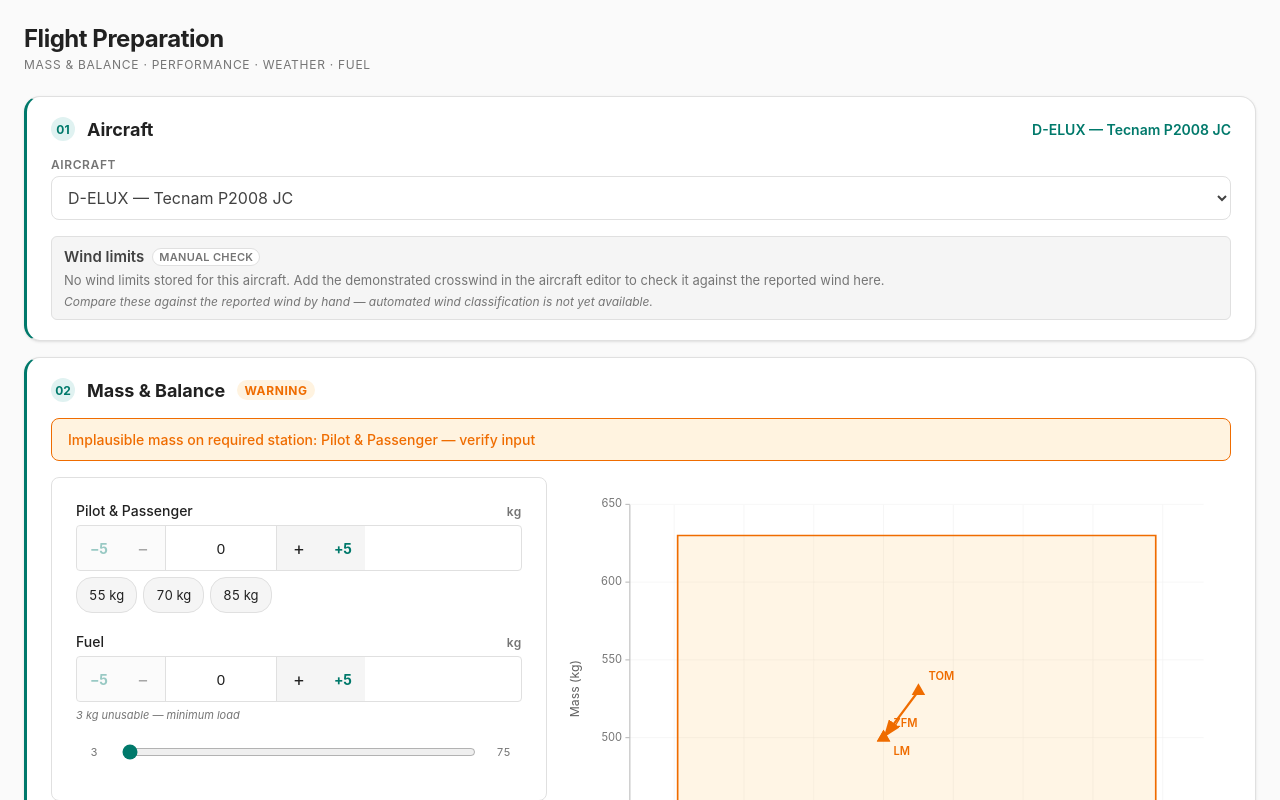
MassBalanceView — Reset Payload confirm + undo › confirming resets the payload and surfaces an undo toast
Replace the text in the field with id "station-0" with "80": [221, 548] box [165,526,277,570]
(page scrolled)
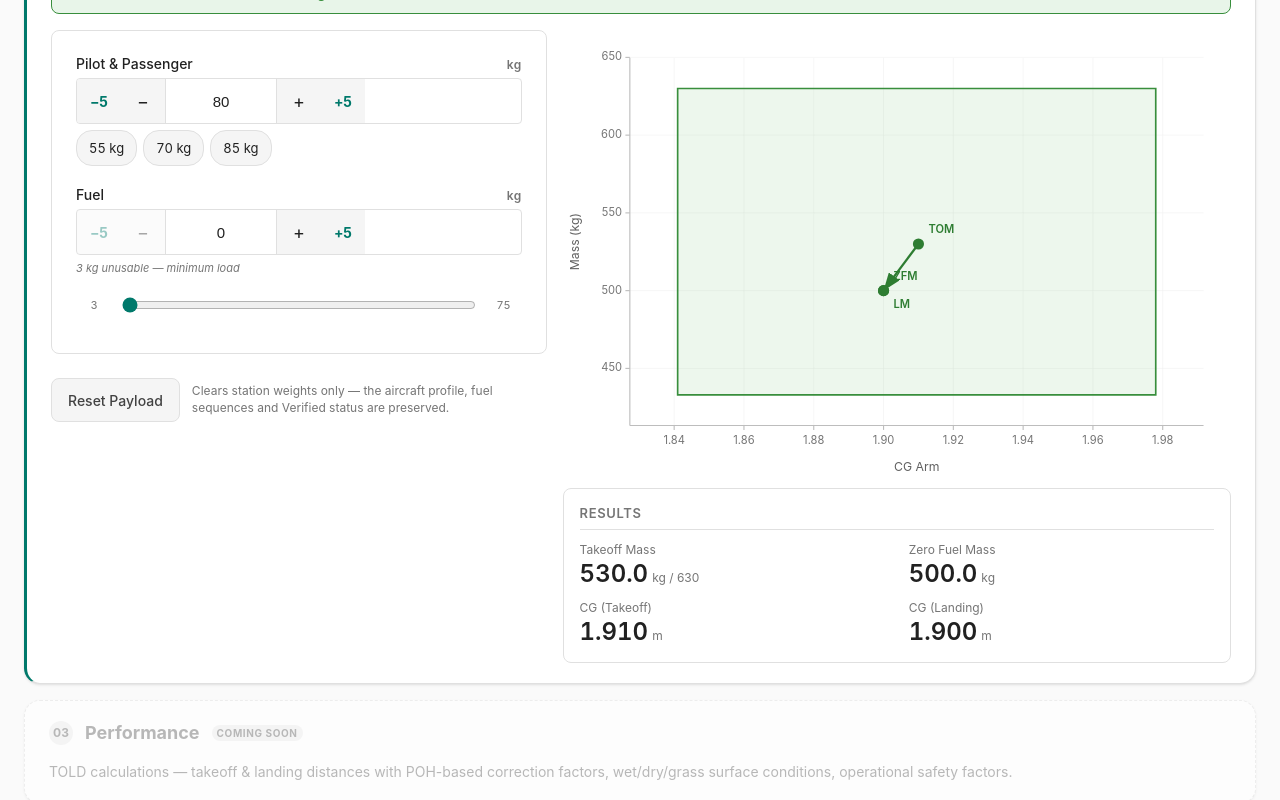
Click the button "Reset Payload": [115, 400] box [51,378,180,422]
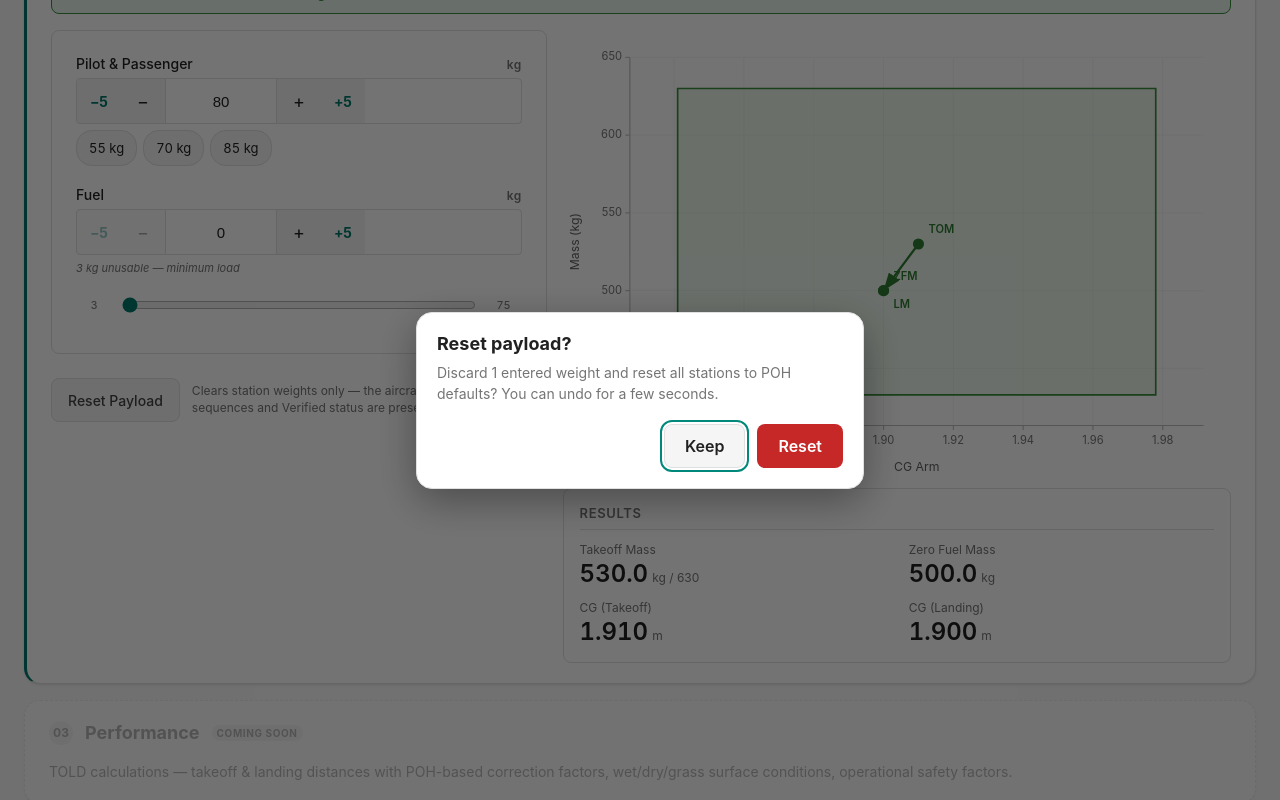
Click the button with class "confirm-dialog__btn--danger": [800, 446] box [757,424,843,468]
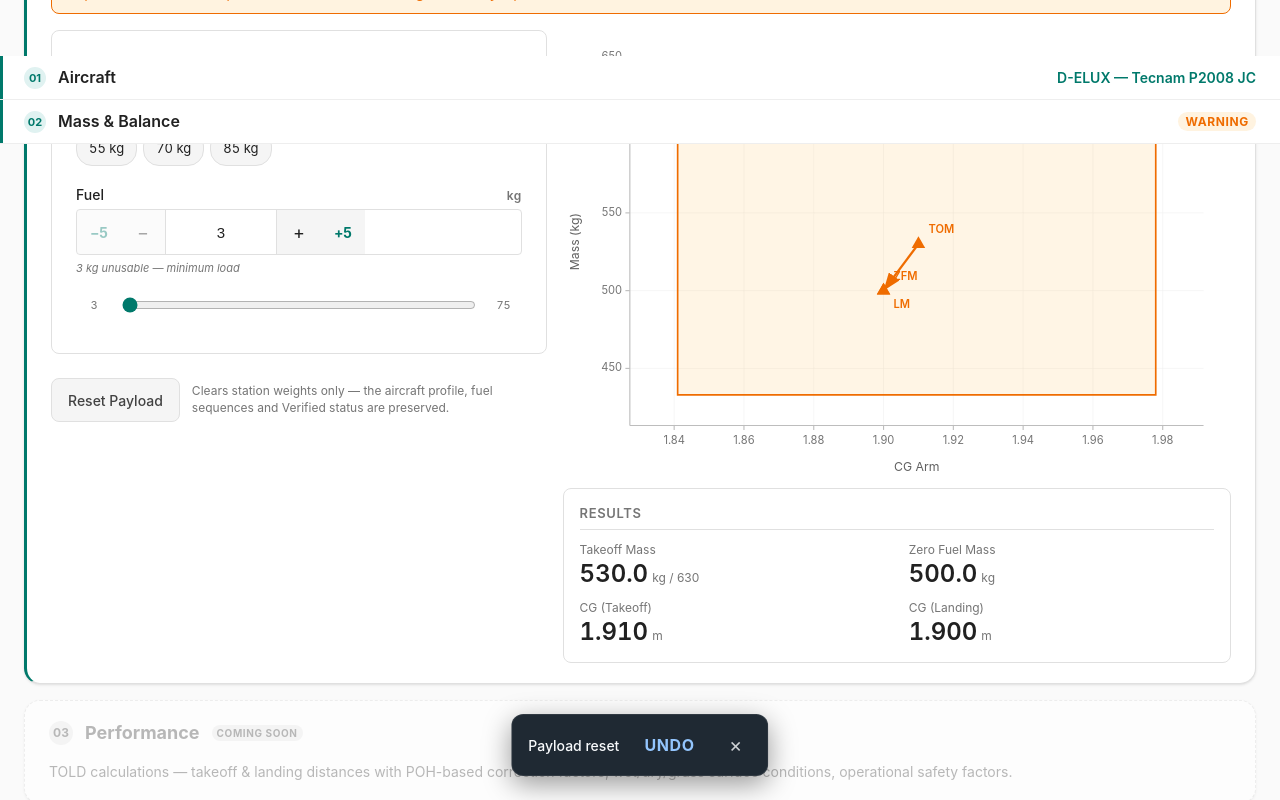
Result: the message "Payload reset Undo ×" is shown at [511,714,769,776]
